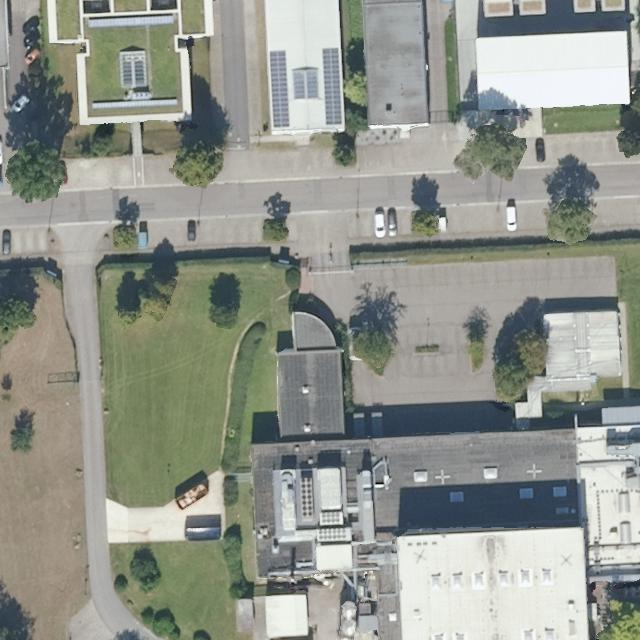PV: (266, 47, 293, 133), (319, 44, 345, 128)
